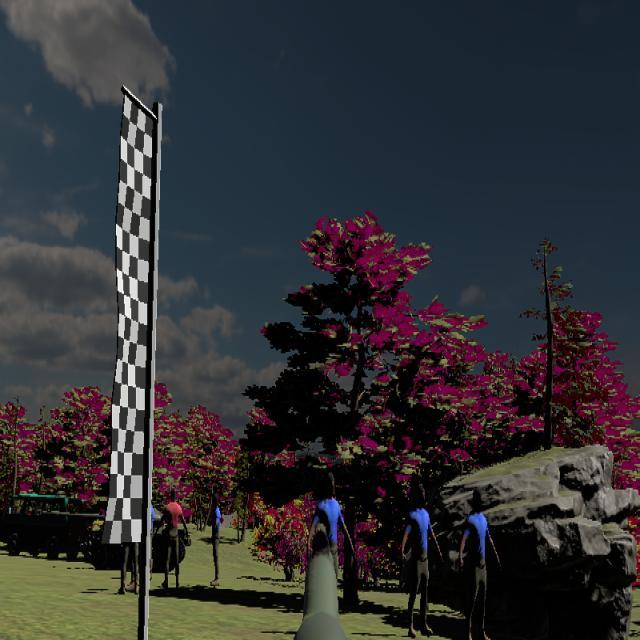Human: (308, 471, 355, 616), (401, 482, 444, 639), (459, 486, 501, 640), (156, 487, 189, 583)
car: (0, 492, 105, 560)
